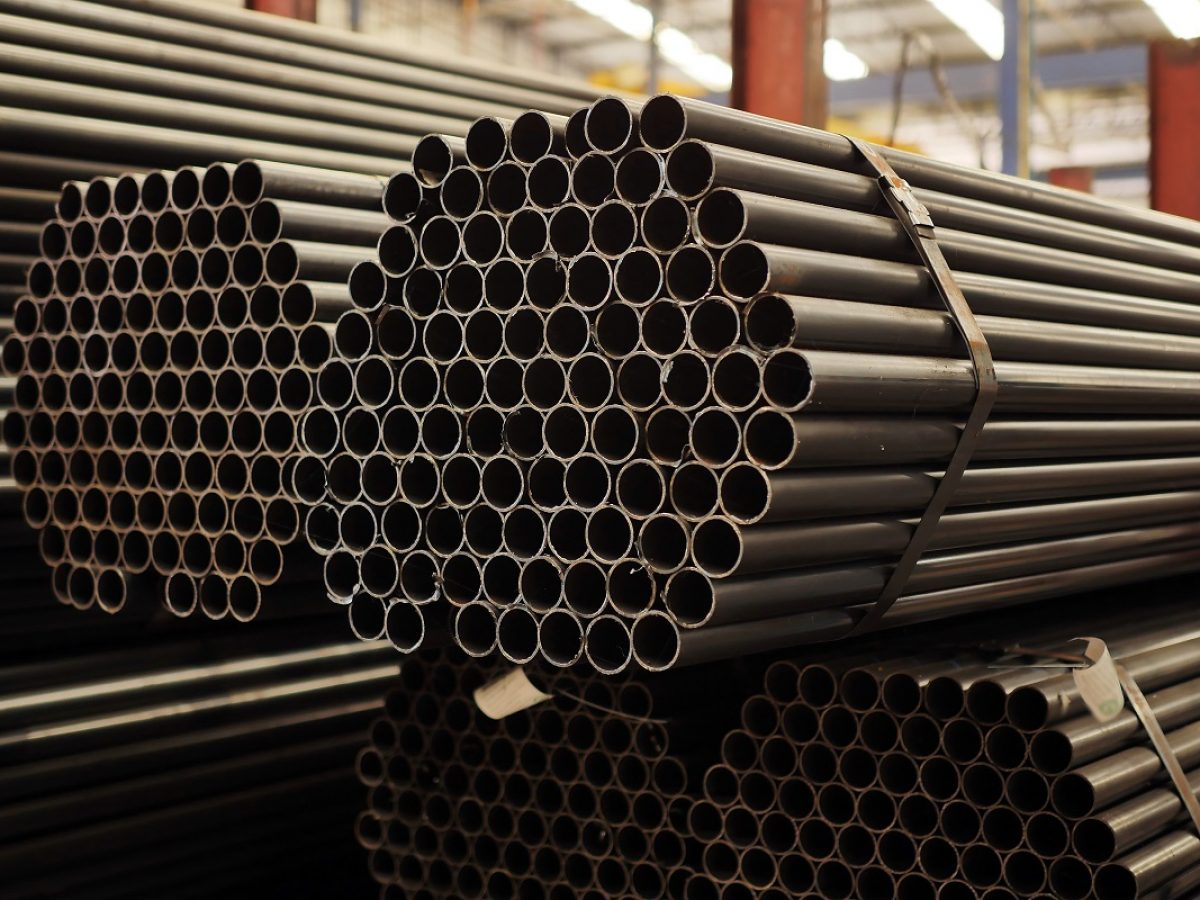pipe: (692, 189, 749, 253), (689, 517, 747, 578), (717, 465, 774, 526), (682, 299, 743, 355), (662, 465, 723, 521), (709, 350, 761, 414), (559, 560, 614, 618), (612, 460, 667, 517), (759, 350, 812, 409), (638, 514, 691, 573), (745, 411, 794, 473), (744, 293, 799, 348), (617, 354, 667, 413), (641, 198, 694, 253), (563, 454, 616, 509), (539, 612, 588, 670), (664, 140, 714, 196), (631, 615, 681, 671), (636, 95, 689, 147), (664, 250, 718, 301), (721, 242, 771, 297), (565, 253, 612, 311), (460, 118, 511, 171), (662, 572, 715, 623), (498, 510, 554, 558), (587, 505, 635, 561), (515, 554, 562, 611), (590, 612, 633, 674), (613, 152, 664, 204), (610, 254, 665, 302), (463, 404, 509, 461), (526, 156, 574, 210), (981, 721, 1029, 775), (642, 298, 688, 354), (524, 257, 569, 314), (593, 406, 638, 463), (590, 305, 640, 356), (417, 405, 463, 460), (452, 604, 498, 659), (591, 204, 636, 260), (440, 453, 484, 510), (566, 359, 615, 410), (438, 361, 486, 413), (661, 355, 709, 407), (1026, 727, 1078, 775), (397, 362, 444, 415), (505, 205, 547, 264), (587, 97, 631, 153), (692, 411, 739, 463), (397, 551, 444, 603), (1069, 818, 1121, 865), (550, 505, 594, 560), (498, 607, 539, 666), (375, 501, 425, 549), (609, 561, 655, 613), (481, 556, 524, 611), (418, 504, 467, 552), (645, 411, 690, 463), (1047, 776, 1099, 821), (522, 358, 566, 411), (397, 454, 440, 508), (549, 206, 591, 261), (357, 455, 402, 506), (442, 266, 485, 319), (572, 152, 614, 206), (526, 457, 568, 511), (384, 599, 426, 653), (376, 224, 420, 275), (547, 308, 591, 359), (545, 406, 589, 457), (460, 215, 503, 267), (443, 554, 484, 608), (1003, 771, 1051, 817), (1025, 812, 1071, 860), (422, 219, 465, 270), (498, 312, 545, 358), (956, 764, 1005, 808), (481, 456, 523, 507), (899, 712, 945, 758), (350, 362, 398, 406), (482, 359, 526, 407), (508, 114, 551, 163), (506, 406, 544, 461), (340, 411, 385, 457), (938, 799, 984, 844), (404, 267, 445, 317), (359, 545, 400, 595), (349, 591, 386, 646), (855, 789, 900, 834), (375, 310, 417, 358), (461, 507, 503, 555), (924, 672, 965, 721), (486, 168, 531, 212), (938, 716, 982, 761), (444, 169, 482, 221), (409, 134, 450, 182), (383, 174, 423, 223), (815, 782, 858, 827), (917, 834, 960, 879), (483, 264, 525, 310), (424, 315, 466, 361), (984, 805, 1026, 851), (835, 821, 877, 867), (245, 535, 285, 583), (226, 575, 265, 624), (349, 261, 387, 311), (321, 553, 363, 598), (965, 678, 1007, 723), (798, 663, 839, 709), (227, 326, 267, 373), (315, 363, 355, 410), (382, 406, 421, 454), (1009, 685, 1048, 733), (332, 311, 369, 361), (1049, 856, 1093, 898), (962, 846, 1003, 891), (298, 411, 338, 457), (463, 312, 502, 359), (260, 411, 300, 456), (324, 457, 361, 505), (799, 741, 836, 789), (1094, 863, 1142, 900), (860, 711, 901, 754), (899, 792, 940, 835), (877, 829, 918, 872), (839, 745, 879, 789), (338, 505, 377, 550), (879, 674, 924, 713), (250, 454, 285, 504), (228, 493, 266, 539), (119, 212, 155, 260), (263, 241, 299, 289), (837, 672, 879, 713), (718, 732, 760, 773), (878, 754, 920, 795), (779, 701, 817, 746), (306, 504, 343, 550), (93, 213, 127, 263), (197, 325, 230, 376), (820, 710, 861, 751), (260, 496, 299, 539), (261, 325, 299, 369), (778, 853, 816, 897), (741, 696, 778, 741), (195, 489, 230, 536), (241, 371, 281, 412), (921, 759, 960, 801), (231, 161, 265, 209), (231, 243, 263, 294), (168, 488, 200, 539), (706, 766, 743, 810), (1007, 852, 1044, 896), (167, 167, 203, 212), (50, 403, 83, 452), (799, 818, 838, 859), (197, 162, 231, 209), (134, 254, 172, 296), (294, 325, 332, 367), (47, 178, 83, 222), (249, 199, 282, 247), (761, 812, 797, 856), (756, 736, 796, 775), (765, 660, 802, 702), (168, 327, 201, 374), (213, 204, 248, 248), (199, 247, 231, 295), (231, 411, 265, 456), (67, 562, 97, 613), (595, 854, 630, 897), (165, 569, 195, 619), (180, 210, 217, 250), (740, 773, 776, 814), (136, 489, 168, 535), (740, 846, 775, 888), (579, 817, 613, 860), (197, 574, 228, 621), (724, 809, 762, 847), (532, 777, 569, 816), (136, 173, 169, 216), (49, 332, 82, 375), (81, 331, 114, 374), (92, 369, 125, 412), (212, 370, 245, 413), (172, 249, 202, 296), (183, 370, 215, 414), (778, 779, 816, 816), (629, 863, 667, 900), (688, 799, 723, 839), (561, 851, 596, 891), (138, 329, 168, 375), (153, 449, 185, 492), (91, 525, 123, 568), (210, 538, 247, 575), (651, 827, 688, 864), (109, 331, 140, 375), (166, 412, 199, 453), (197, 413, 230, 454), (107, 491, 140, 532), (152, 533, 185, 574), (548, 813, 581, 854), (153, 212, 185, 254), (617, 822, 649, 864), (214, 458, 250, 495), (149, 373, 184, 411), (703, 841, 738, 879), (818, 860, 852, 899), (856, 866, 895, 900), (484, 803, 518, 842), (568, 782, 601, 822), (95, 567, 124, 612), (438, 828, 474, 864), (502, 839, 536, 877), (37, 449, 67, 492), (123, 529, 153, 572), (139, 413, 172, 452), (182, 536, 215, 575), (515, 808, 547, 848), (81, 490, 110, 534), (27, 414, 58, 455), (630, 794, 668, 827), (617, 756, 649, 795), (281, 370, 310, 413), (95, 449, 124, 492), (582, 752, 613, 792), (13, 377, 46, 414), (7, 448, 39, 486), (37, 218, 68, 257), (24, 262, 55, 301), (123, 449, 152, 490), (599, 788, 631, 825), (408, 825, 440, 862), (79, 410, 109, 449), (63, 525, 93, 564), (654, 758, 685, 795), (456, 798, 487, 835), (184, 453, 214, 491), (111, 175, 140, 214), (39, 529, 68, 568), (394, 792, 427, 826), (566, 716, 597, 752), (11, 298, 40, 336), (24, 490, 53, 528), (68, 373, 96, 412), (127, 372, 155, 411), (535, 845, 563, 884), (111, 411, 138, 451), (67, 448, 94, 488), (51, 488, 81, 524), (42, 375, 71, 412), (355, 750, 384, 787), (69, 218, 95, 259), (638, 722, 666, 760), (358, 816, 390, 849), (484, 740, 518, 771), (83, 179, 110, 218), (113, 257, 140, 296), (551, 749, 579, 786), (54, 261, 82, 296), (80, 259, 108, 294), (444, 700, 472, 735), (521, 742, 549, 777), (26, 336, 52, 373), (424, 799, 455, 830), (395, 856, 426, 886), (538, 710, 564, 745), (427, 865, 457, 895), (456, 869, 486, 899), (603, 721, 630, 754), (457, 736, 484, 769), (371, 850, 397, 884), (474, 838, 502, 869), (1, 339, 26, 372), (369, 722, 397, 751), (477, 771, 503, 801), (505, 777, 531, 807), (416, 697, 440, 729), (384, 692, 410, 721), (385, 821, 411, 850), (372, 787, 396, 817), (3, 418, 26, 447)
